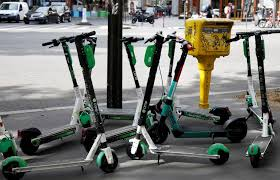kick_body: (159, 145, 207, 156), (2, 157, 26, 179), (20, 128, 39, 154), (184, 125, 225, 137), (97, 151, 119, 173), (226, 119, 246, 142), (149, 123, 169, 144), (209, 144, 229, 165), (30, 160, 85, 167), (127, 141, 145, 160), (102, 110, 136, 120), (213, 107, 228, 124), (84, 132, 96, 150), (249, 145, 259, 166)
kick_handler: (61, 31, 96, 42), (41, 37, 74, 47), (237, 30, 280, 36), (119, 36, 146, 43), (179, 36, 192, 50), (149, 31, 164, 42)
kick_neck: (256, 40, 269, 114), (244, 42, 254, 95), (167, 44, 171, 84)
